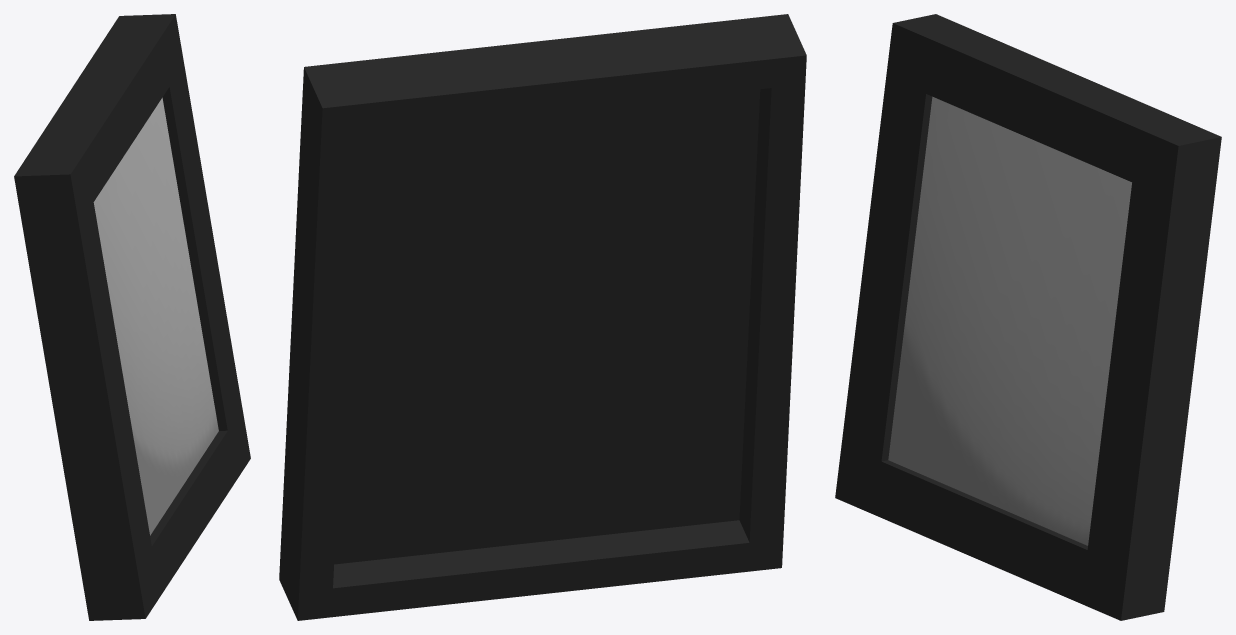
The model's file is Picture_Frame.fbx.
3 views of the same model, side by side, from view 1: azimuth 30°, elevation 25°; view 2: azimuth 150°, elevation 25°; view 3: azimuth 270°, elevation 25° (orthographic). The views are drawn at different scales.
Visible parts, largest first — view 1: pasted__pCube1; view 2: pasted__pCube1; view 3: pasted__pCube1.
Part boxes in pixels (x1,y1,x2,y2): pasted__pCube1: (14,14,250,620); pasted__pCube1: (279,14,806,620); pasted__pCube1: (835,14,1221,620).
Bounding box in the file's own units: 0.3622 × 0.4714 × 0.3592.
